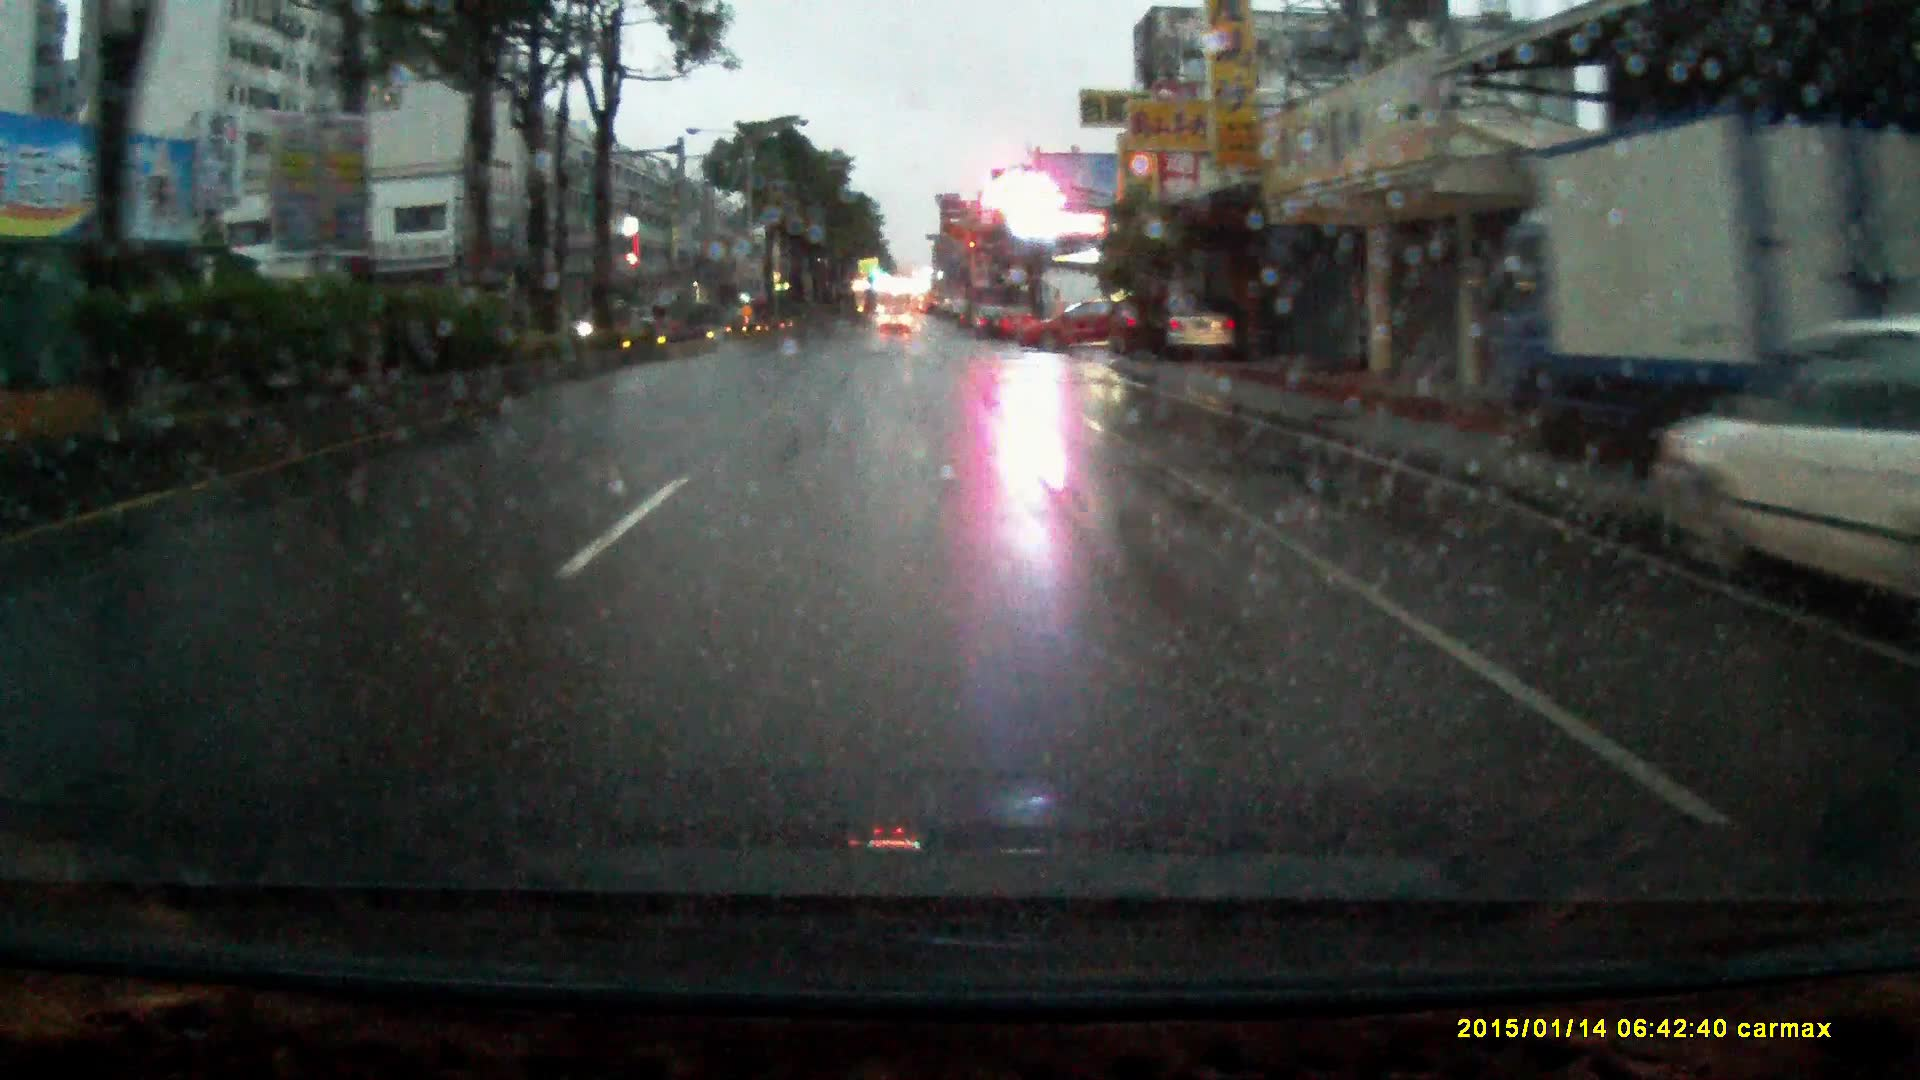vehicle: (1476, 99, 1865, 448), (1018, 293, 1142, 348), (1156, 291, 1242, 356), (1106, 294, 1178, 353), (997, 298, 1040, 334), (880, 306, 911, 334)
